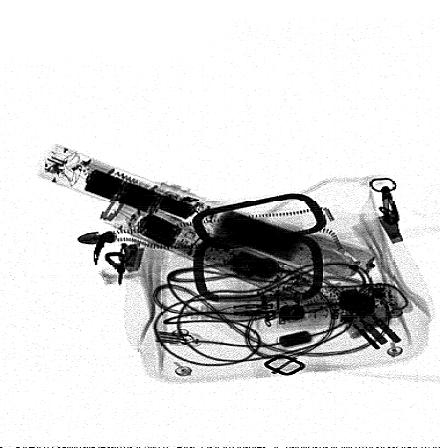Baton: (39, 143, 379, 288), (100, 189, 321, 301)
